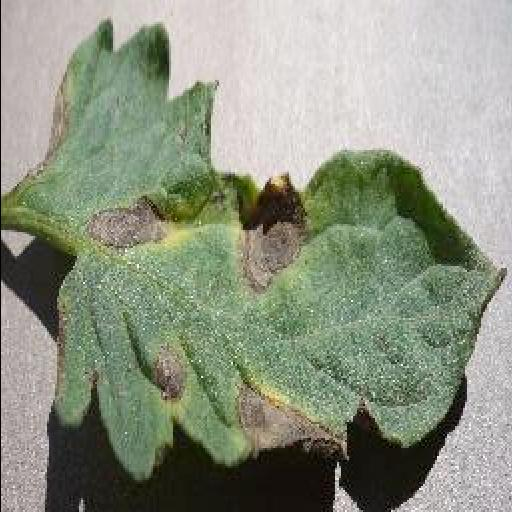disease_tomato: (46, 26, 504, 483)
